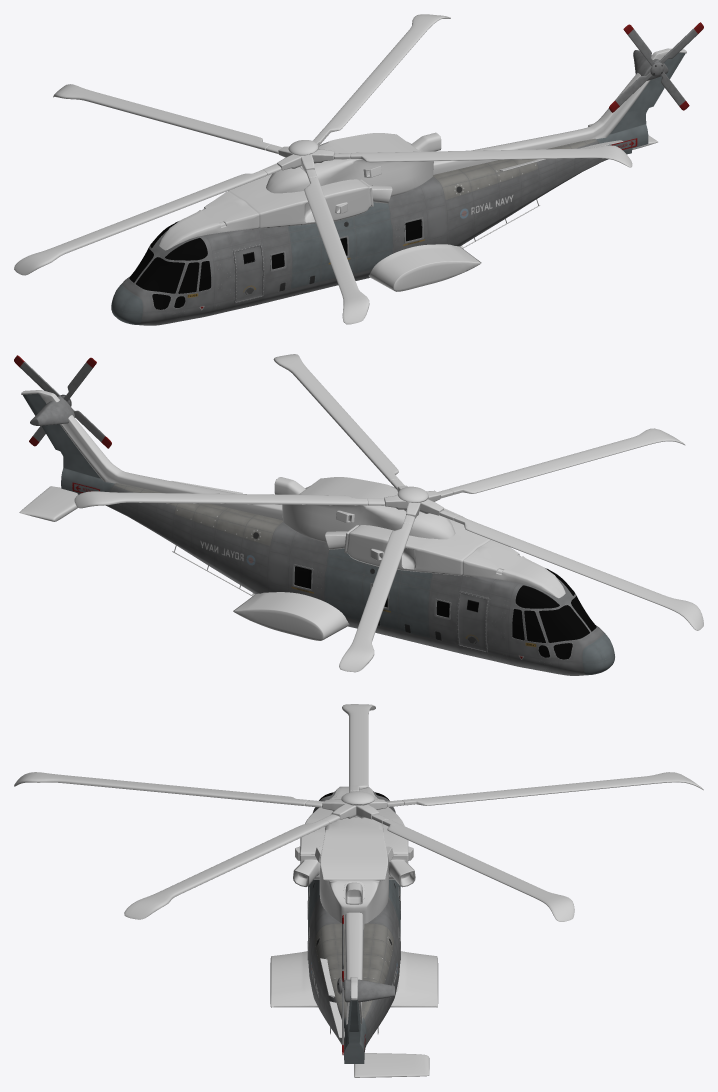
The model's file is Helicopter.fbx.
3 renders of one model, top to bottom at view 1: azimuth 30°, elevation 25°; view 2: azimuth 150°, elevation 25°; view 3: azimuth 270°, elevation 25°, orthographic. The views are drawn at different scales.
Visible parts, largest first — view 1: Low-Body, Low-Prop, Low-BodyTop, Low-Windwos, Low-Sides, Low-BackPropHolder, Low-Door; view 2: Low-Body, Low-BodyTop, Low-Prop, Low-Windwos, Low-Sides, Low-BackPropHolder, Low-Door, Low-BackWing; view 3: Low-Prop, Low-BodyTop, Low-Body, Low-Sides, Low-BackWing, Low-BackPropHolder.
Part boxes in pixels (x1,y1,x2,y2): Low-Body: (111, 52, 685, 325); Low-Prop: (14, 14, 632, 324); Low-BodyTop: (159, 48, 686, 250); Low-Windwos: (129, 217, 424, 309); Low-Sides: (368, 199, 540, 291); Low-BackPropHolder: (609, 22, 703, 112); Low-Door: (233, 243, 264, 303); Low-Body: (23, 393, 614, 675); Low-BodyTop: (21, 390, 565, 598); Low-Prop: (74, 354, 703, 672); Low-Windwos: (292, 564, 596, 659); Low-Sides: (172, 545, 349, 640); Low-BackPropHolder: (14, 355, 111, 448); Low-Door: (457, 591, 489, 652); Low-BackWing: (19, 481, 242, 521); Low-Prop: (14, 704, 703, 921); Low-BodyTop: (293, 786, 415, 1024); Low-Body: (308, 791, 400, 1063); Low-Sides: (270, 951, 438, 1034); Low-BackWing: (320, 958, 429, 1077); Low-BackPropHolder: (337, 915, 395, 1055).
Bounding box in the file's own units: 2189 × 570 × 1744.
